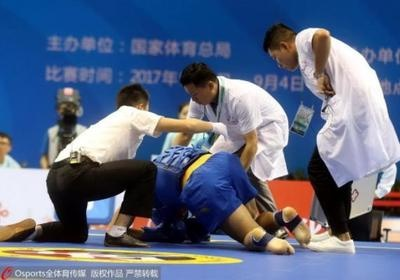falling: (134, 137, 315, 255)
